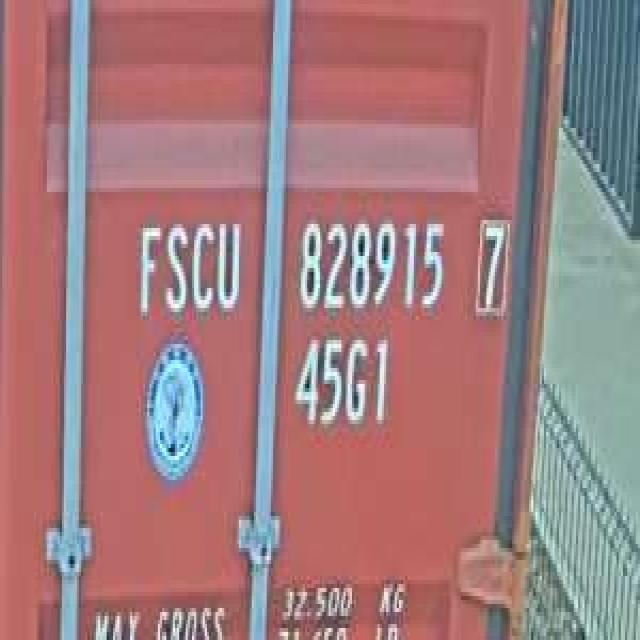dv: (469, 204, 514, 324)
owner: (130, 208, 245, 324)
serial: (292, 208, 450, 324)
size: (290, 328, 391, 440)
